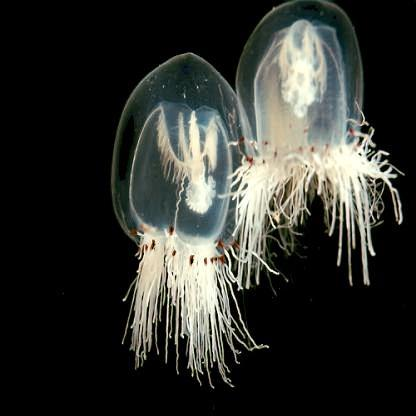FriedEggs: (113, 52, 268, 381), (230, 5, 404, 287)
